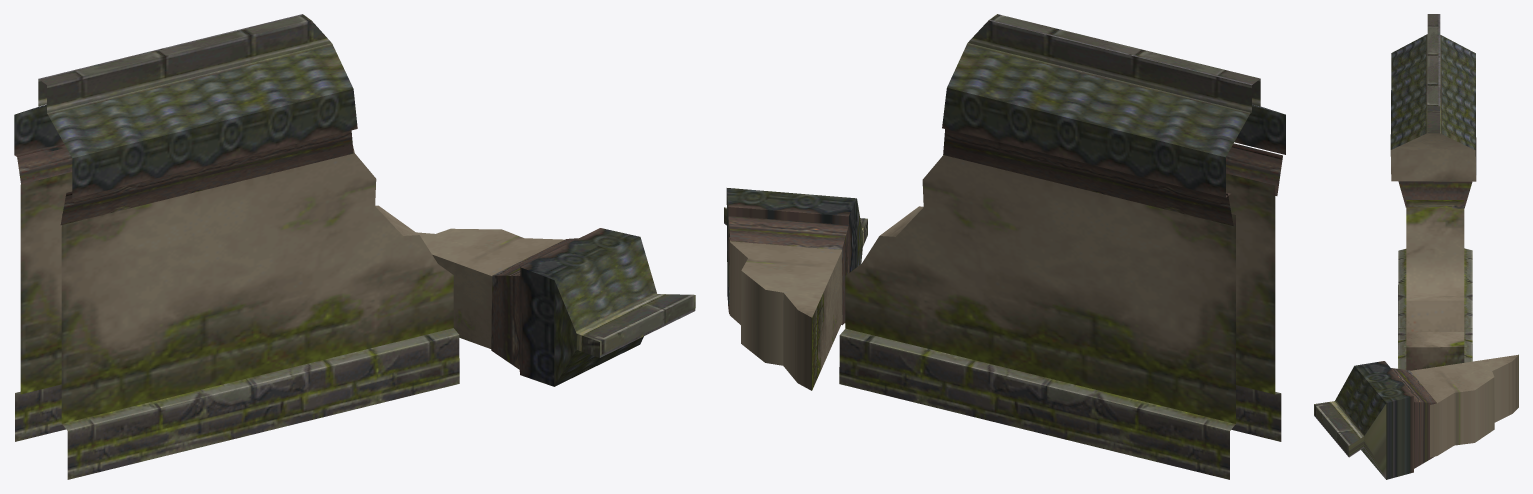
The model's file is 4009_Item_qiang_broken_4.FBX.
The picture shows the model from 3 angles, left to right: view 1: azimuth 30°, elevation 25°; view 2: azimuth 150°, elevation 25°; view 3: azimuth 270°, elevation 25°; orthographic projection. The views are drawn at different scales.
Parts seen in each view (by area): view 1: 4009_Item_qiang_broken_4; view 2: 4009_Item_qiang_broken_4; view 3: 4009_Item_qiang_broken_4.
Boxes of the visible parts, x1,y1,x2,y2 form: 4009_Item_qiang_broken_4: (14, 14, 695, 479); 4009_Item_qiang_broken_4: (724, 14, 1285, 479); 4009_Item_qiang_broken_4: (1314, 14, 1518, 479).
Size of the model in its own units: 551 by 336 by 230.
